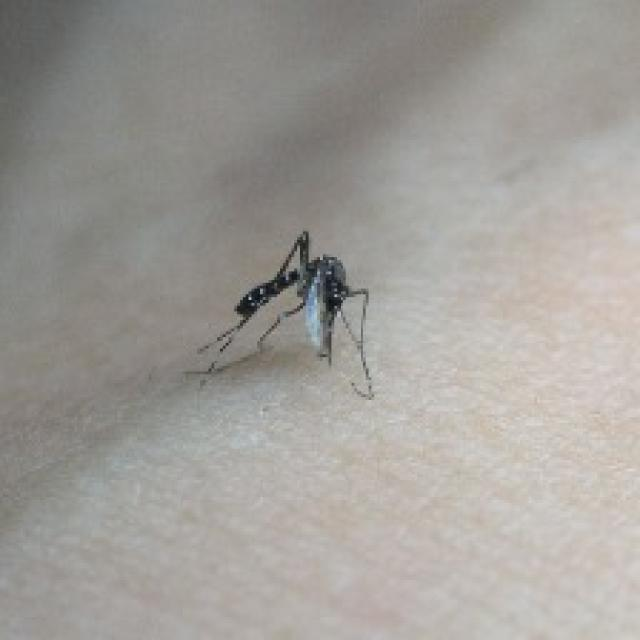aedes: (189, 226, 377, 400)
